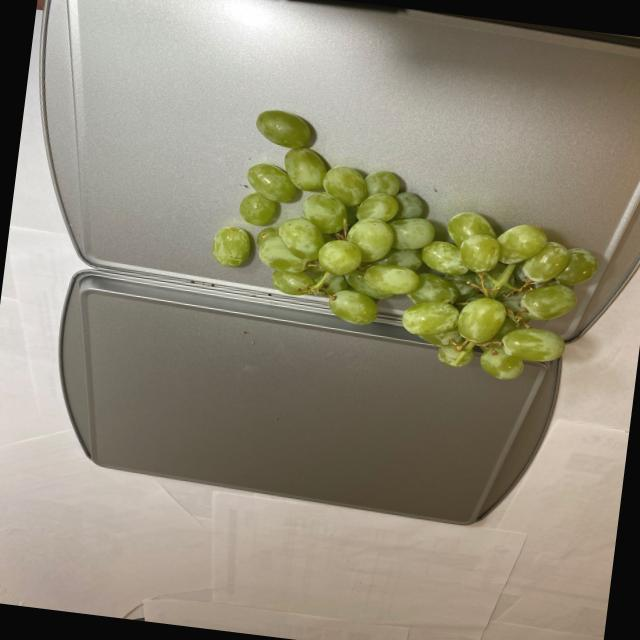grapes: (198, 107, 616, 390)
